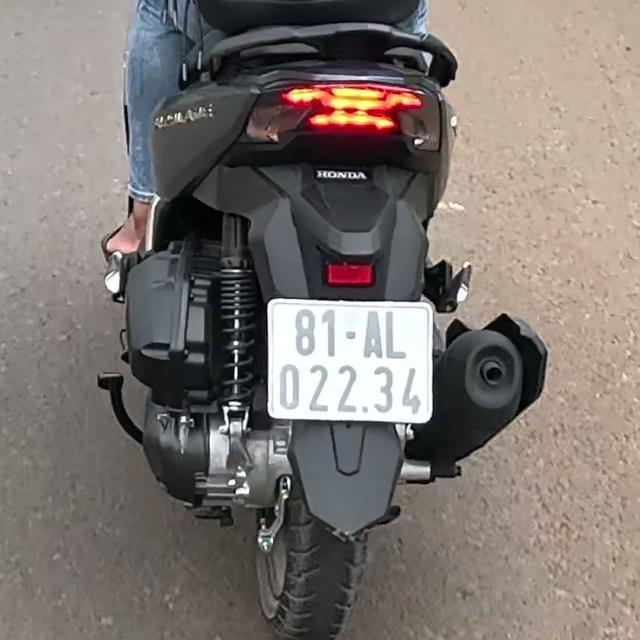license-plate: (266, 298, 434, 422)
